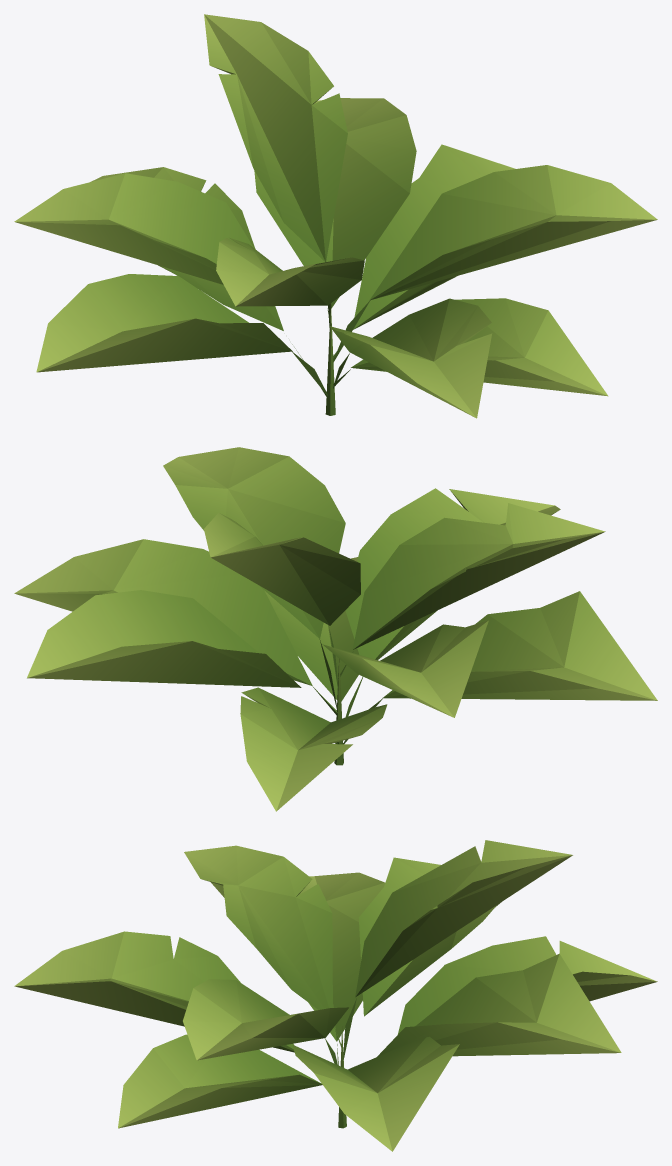
The model's file is plant_01.glb.
The picture shows the model from 3 angles, top to bottom: view 1: azimuth 30°, elevation 25°; view 2: azimuth 150°, elevation 25°; view 3: azimuth 270°, elevation 25°; orthographic projection. The views are drawn at different scales.
Parts seen in each view (by area): view 1: Spring_Plant_01_LOD1; view 2: Spring_Plant_01_LOD1; view 3: Spring_Plant_01_LOD1.
Boxes of the visible parts, <box> form: Spring_Plant_01_LOD1: <box>14,14,657,418</box>; Spring_Plant_01_LOD1: <box>14,447,657,811</box>; Spring_Plant_01_LOD1: <box>14,840,657,1151</box>.
Size of the model in its own units: 1.69 by 0.8081 by 1.71.
1 material, 1 textured.
